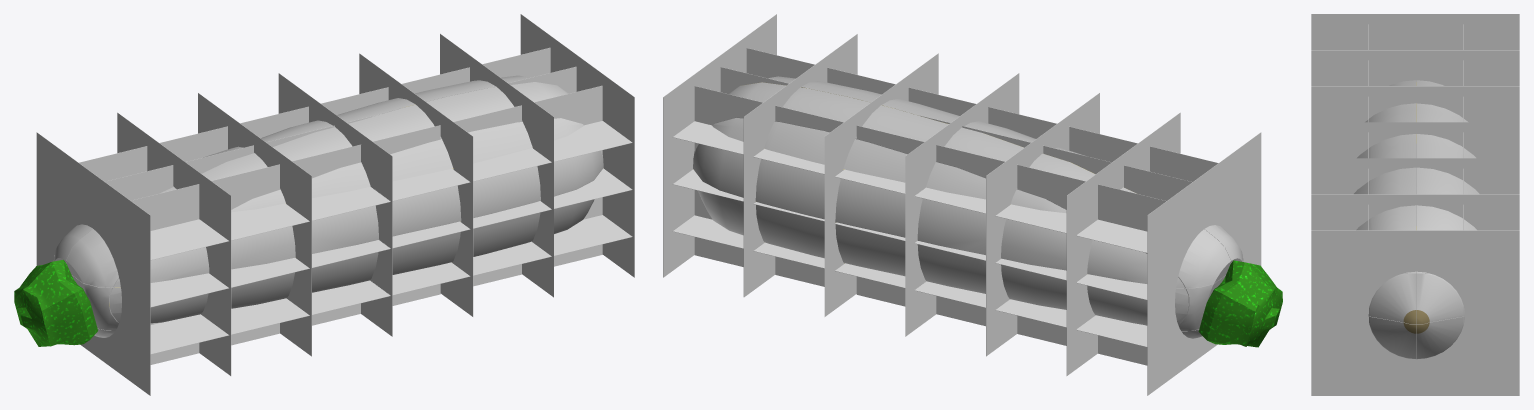
File: ZuchiniFertig2.fbx
3 renders of one model, left to right at view 1: azimuth 30°, elevation 25°; view 2: azimuth 150°, elevation 25°; view 3: azimuth 270°, elevation 25°, orthographic. The views are drawn at different scales.
Visible parts, largest first — view 1: R_Schnitt1, Stumpf, R_Schnitt7, R_Schnitt2, R_Schnitt3, R1_L_Schnitt, R1_H_Schnitt, R_Schnitt4, R_Schnitt5, R_Schnitt6, R6_H_Schnitt.004, R6_L_Schnitt.004 (+32 smaller); view 2: R_Schnitt1, Stumpf, R_Schnitt7, R_Schnitt2, R_Schnitt3, R1_L_Schnitt, R_Schnitt6, R_Schnitt4, R_Schnitt5, R6_L_Schnitt.004, R2_L_Schnitt, R1_H_Schnitt (+32 smaller); view 3: R_Schnitt7, R_Schnitt1, R_Schnitt2, StumpHinten, R_Schnitt3, R_Schnitt4, R_Schnitt6, R_Schnitt5, R5L2H1, R5L3H1, R6L2H1, R4L2H1 (+4 smaller).
Part boxes in pixels (x1,y1,x2,y2): R_Schnitt1: (36, 132, 150, 395); Stumpf: (14, 224, 121, 346); R_Schnitt7: (520, 14, 634, 277); R_Schnitt2: (117, 112, 231, 375); R_Schnitt3: (198, 93, 311, 356); R1_L_Schnitt: (79, 146, 199, 364); R1_H_Schnitt: (150, 219, 228, 354); R_Schnitt4: (278, 73, 392, 336); R_Schnitt5: (359, 53, 473, 316); R_Schnitt6: (440, 33, 553, 297); R6_H_Schnitt.004: (554, 121, 632, 255); R6_L_Schnitt.004: (482, 47, 602, 266); R_Schnitt1: (1147, 132, 1261, 395); Stumpf: (1175, 225, 1282, 347); R_Schnitt7: (663, 14, 776, 277); R_Schnitt2: (1066, 112, 1180, 375); R_Schnitt3: (986, 93, 1099, 356); R1_L_Schnitt: (1098, 146, 1218, 365); R_Schnitt6: (743, 34, 857, 297); R_Schnitt4: (905, 73, 1019, 336); R_Schnitt5: (824, 53, 938, 316); R6_L_Schnitt.004: (694, 48, 814, 266); R2_L_Schnitt: (1017, 126, 1137, 345); R1_H_Schnitt: (1076, 219, 1147, 346); R_Schnitt7: (1311, 230, 1519, 395); R_Schnitt1: (1311, 14, 1519, 49); R_Schnitt2: (1311, 50, 1519, 85); StumpHinten: (1368, 271, 1464, 359); R_Schnitt3: (1311, 86, 1519, 122); R_Schnitt4: (1311, 122, 1519, 158); R_Schnitt6: (1311, 194, 1519, 230); R_Schnitt5: (1311, 158, 1519, 194); R5L2H1: (1416, 167, 1463, 194); R5L3H1: (1369, 167, 1415, 194); R6L2H1: (1416, 205, 1463, 230); R4L2H1: (1416, 134, 1463, 158).
Size of the model in its own units: 435 by 130 by 149.
